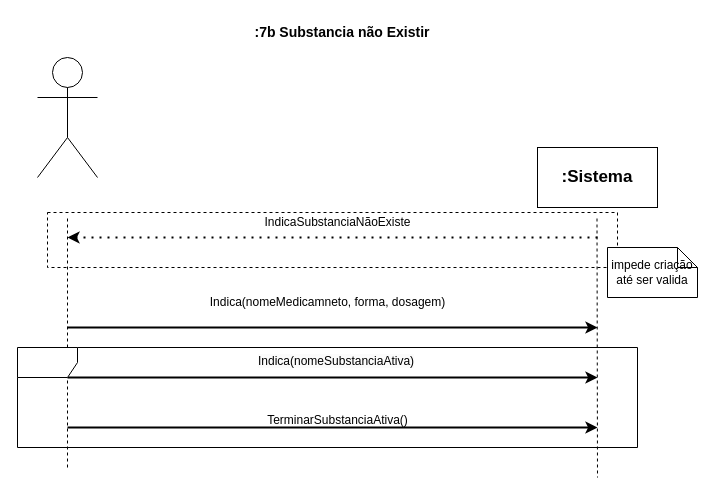
The diagram is 715 pixels wide and 496 high, and some of its shapes have lost their labels. Each missing label, with the box of its shape:
:Industria: (36, 56, 98, 178)
loop: (16, 346, 638, 448)
